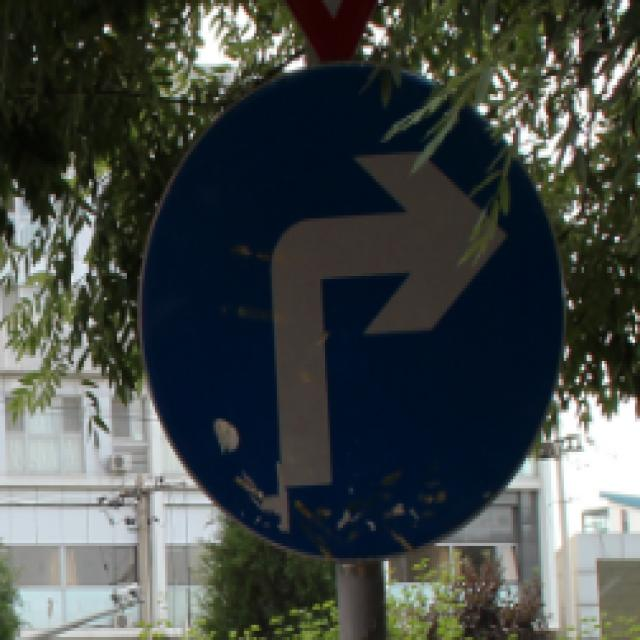Right: (132, 63, 587, 560)
